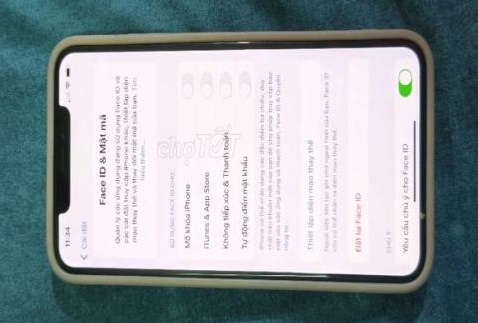scratch: (412, 201, 433, 231)
